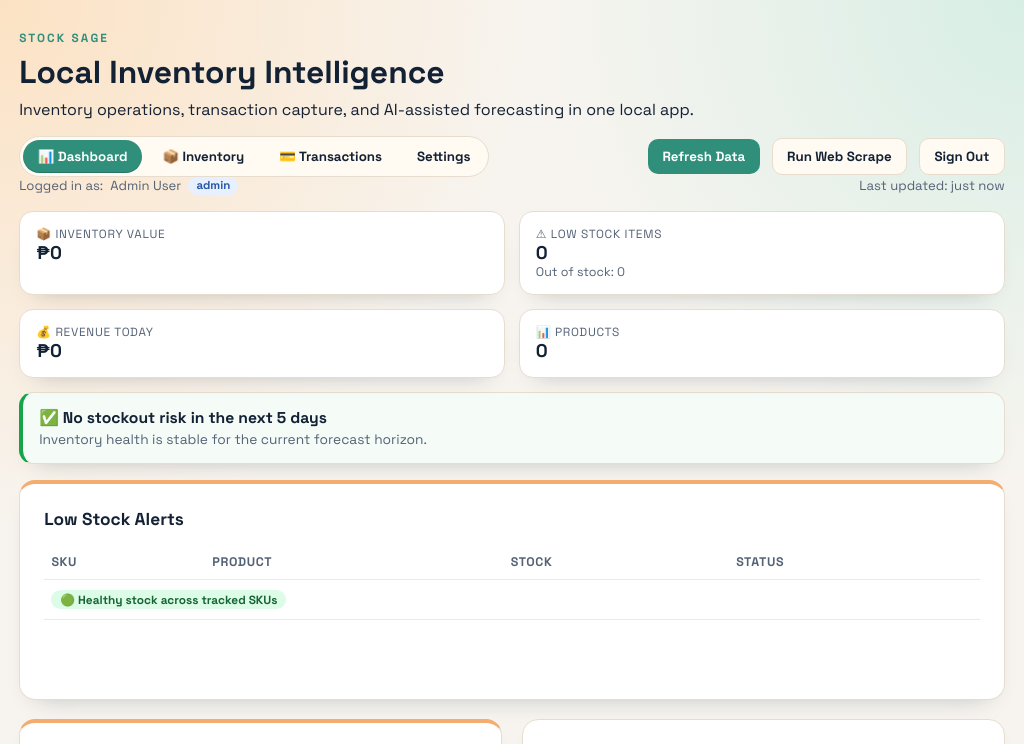
Test case: Dashboard rendering › runs manual web scraping from the dashboard toolbar
The width and height of the screenshot is (1024, 744).
Step 1. Click the button "Run Web Scrape" → (839, 156), box [772,138,907,175]
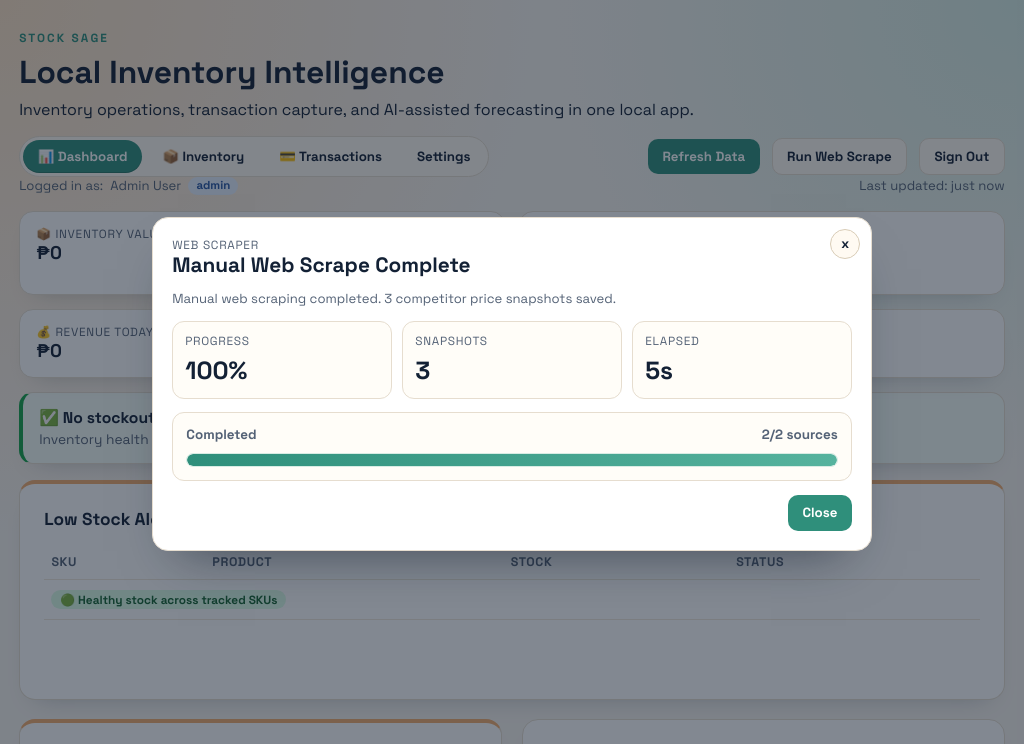
Now the dialog "Manual Web Scrape" is shown, box [152,217,872,551]
Now the text "Manual web scraping completed. 3 competitor price snapshots saved." is shown, box [172,290,616,307]
